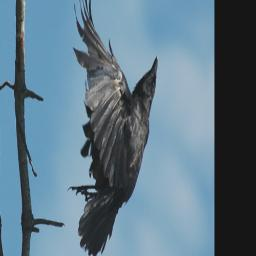Crow: (58, 0, 166, 256)
